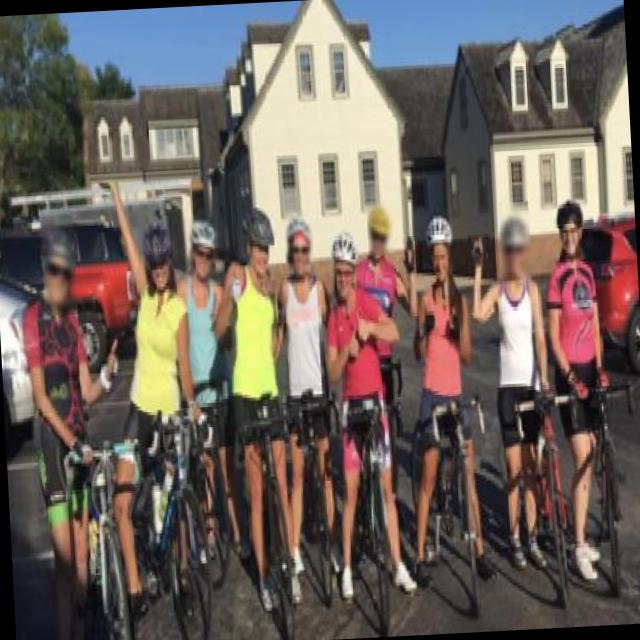With Helmet: (38, 208, 78, 318), (236, 200, 284, 280), (136, 215, 174, 308), (183, 216, 226, 288), (326, 224, 364, 302), (551, 190, 594, 257), (496, 203, 531, 285), (423, 203, 458, 282), (282, 208, 316, 278), (365, 200, 396, 258)
